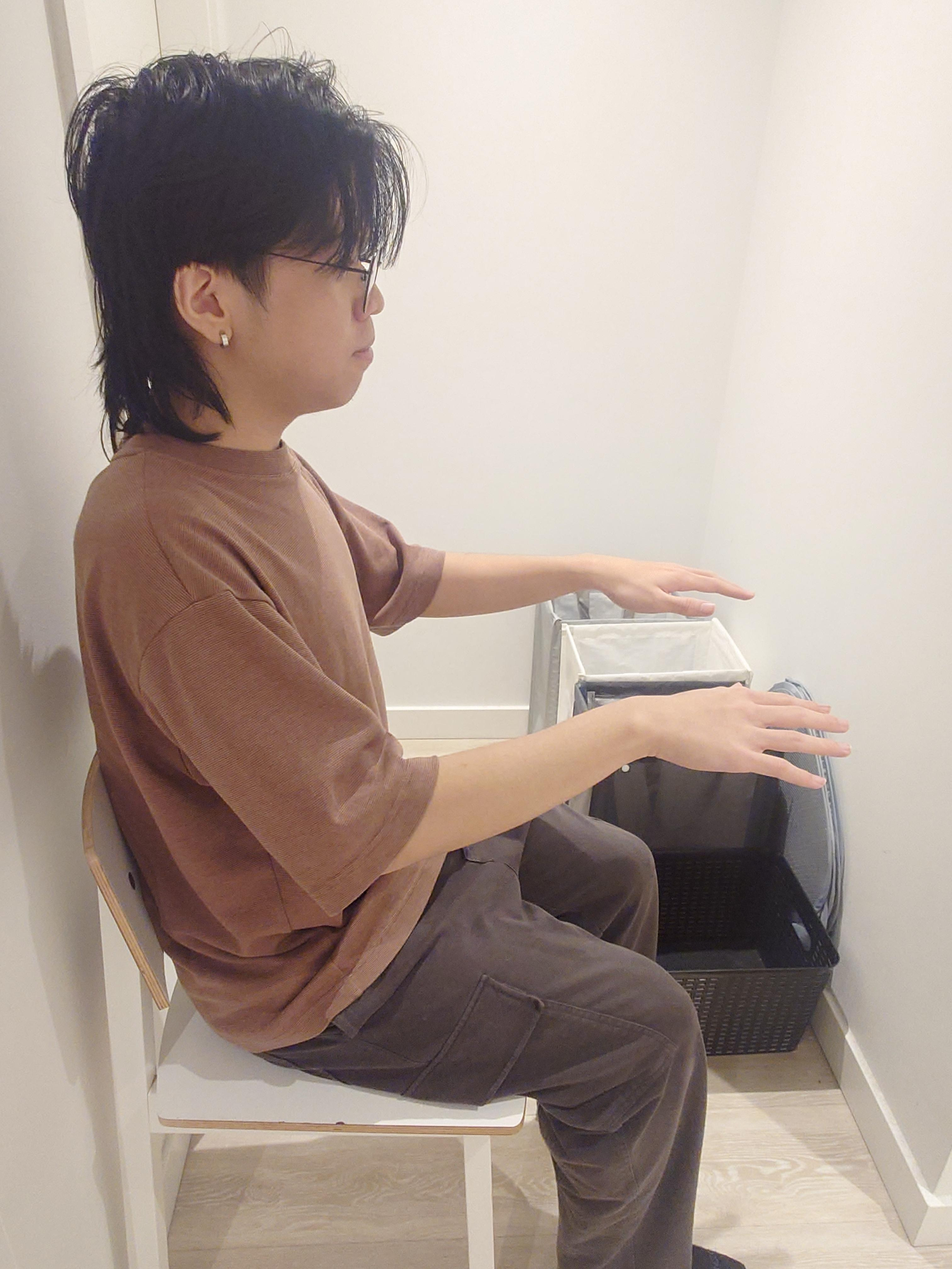GoodPosture: (61, 53, 851, 1269)
